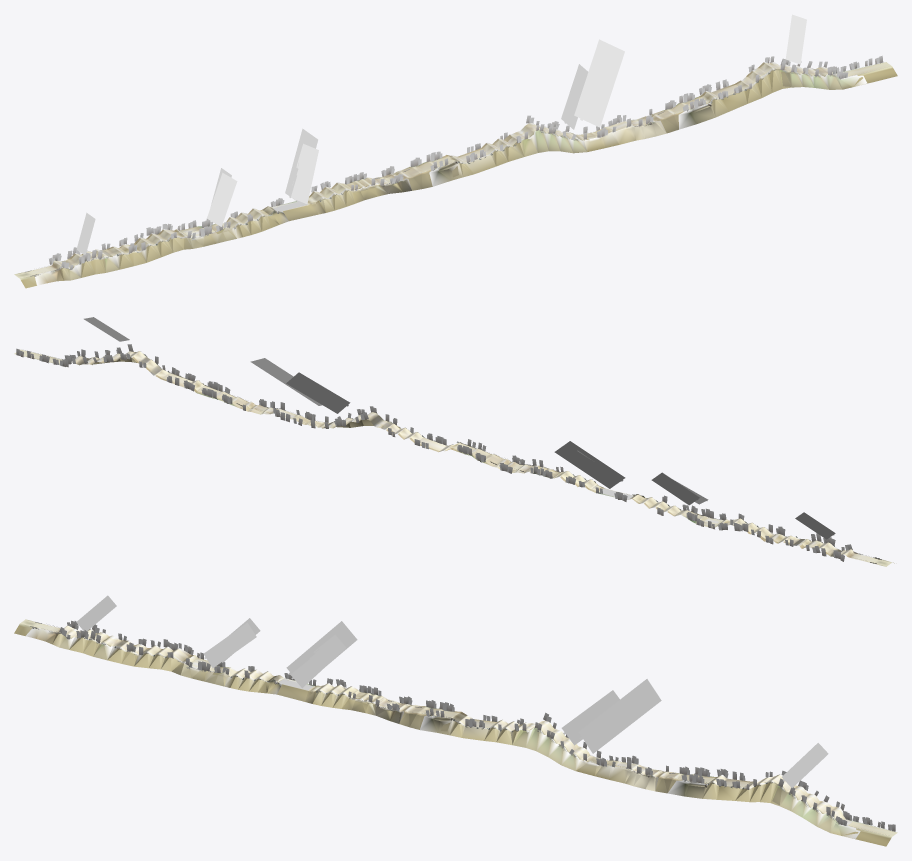
File: Beach_03.fbx
3 renders of one model, top to bottom at view 1: azimuth 30°, elevation 25°; view 2: azimuth 150°, elevation 25°; view 3: azimuth 330°, elevation 25°, orthographic.
Visible parts, largest first — view 1: Mountain_01, Light_01, Tree_01, Ground_01, Road_01; view 2: Tree_01, Ground_01, Light_01, Road_01; view 3: Mountain_01, Light_01, Tree_01, Ground_01, Road_01.
Boxes of the visible parts, bbox=[...] form: Mountain_01: bbox=[34, 68, 867, 285]; Light_01: bbox=[76, 14, 806, 254]; Tree_01: bbox=[34, 55, 883, 276]; Ground_01: bbox=[15, 62, 891, 278]; Road_01: bbox=[14, 62, 897, 288]; Tree_01: bbox=[16, 344, 879, 561]; Ground_01: bbox=[15, 350, 891, 566]; Light_01: bbox=[84, 317, 835, 539]; Road_01: bbox=[14, 349, 894, 566]; Mountain_01: bbox=[25, 627, 860, 838]; Light_01: bbox=[76, 595, 828, 787]; Tree_01: bbox=[32, 620, 895, 831]; Ground_01: bbox=[20, 620, 896, 836]; Road_01: bbox=[14, 619, 897, 846].
Size of the model in its own units: 115765 by 10674 by 7067.
